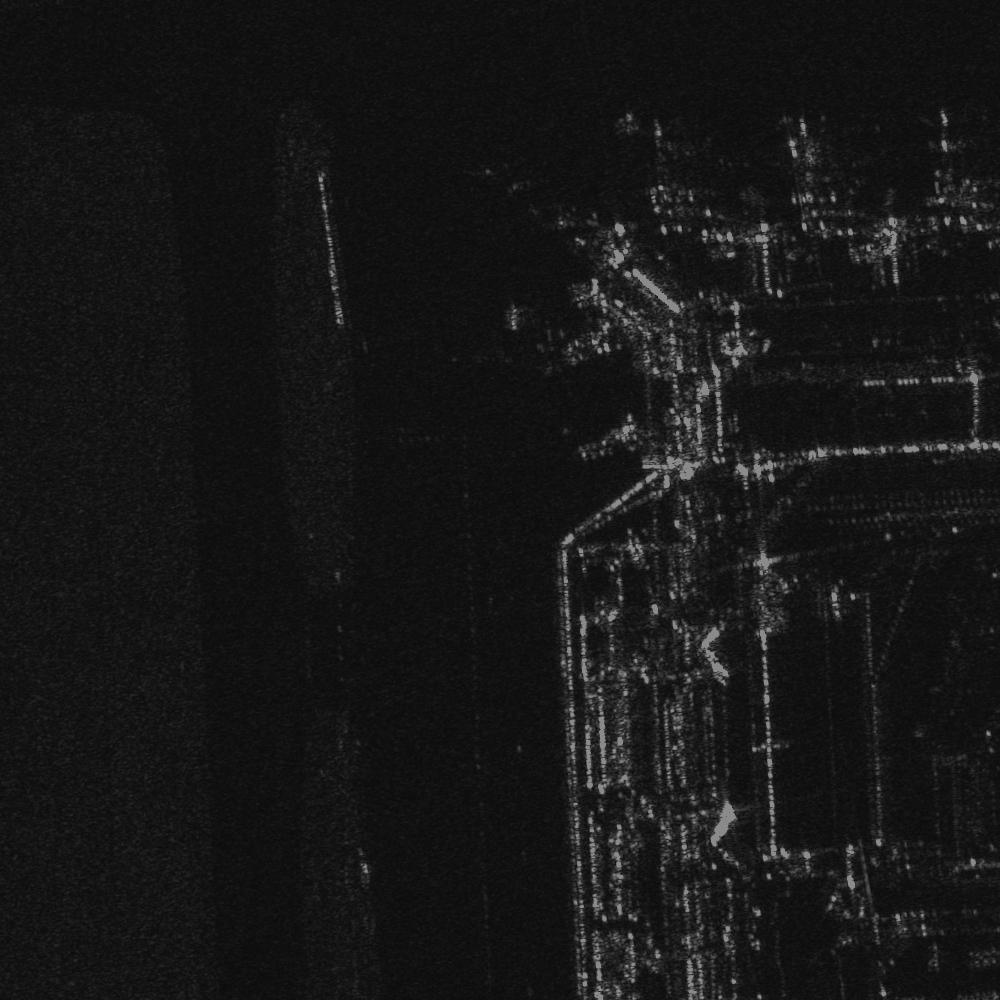Boeing787: (908, 103, 987, 216)
other: (768, 112, 848, 238), (618, 111, 699, 211)
